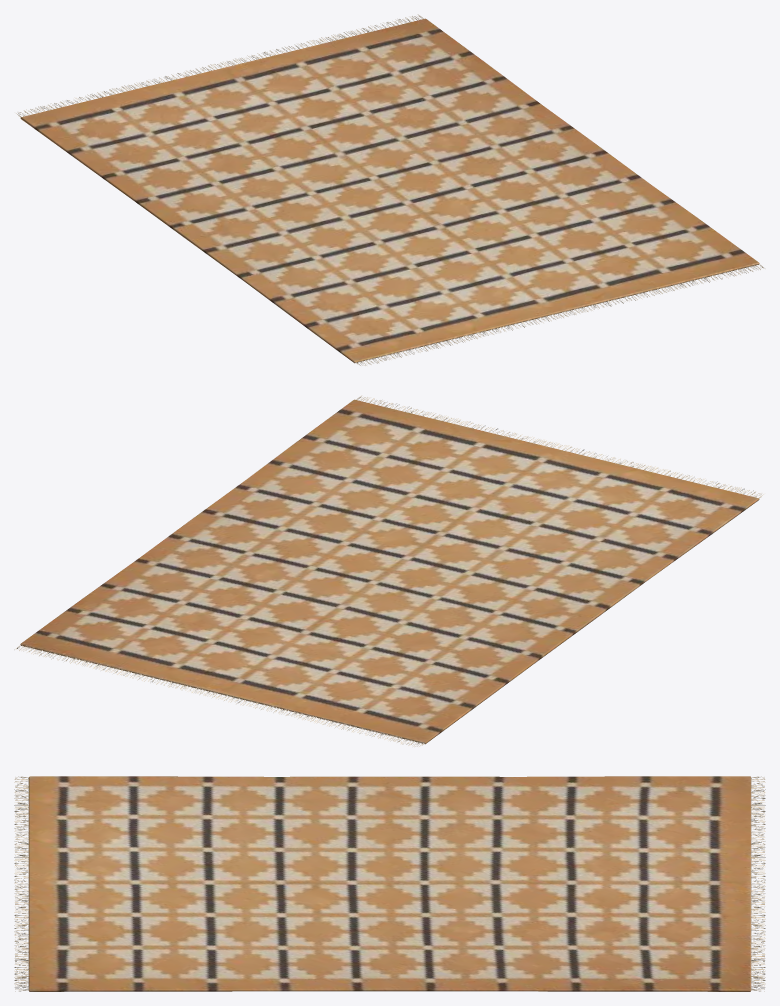
3 views of the same model, one above another, from view 1: azimuth 30°, elevation 25°; view 2: azimuth 150°, elevation 25°; view 3: azimuth 270°, elevation 25° (orthographic). The views are drawn at different scales.
Parts seen in each view (by area): view 1: Mesh_0; view 2: Mesh_0; view 3: Mesh_0.
Part boxes in pixels (x1,y1,x2,y2): Mesh_0: (16, 14, 765, 365); Mesh_0: (14, 395, 763, 746); Mesh_0: (14, 776, 765, 991).
Bounding box in the file's own units: 1.7 × 0.00987 × 2.53.
Materials: 1 (1 with a texture image).
